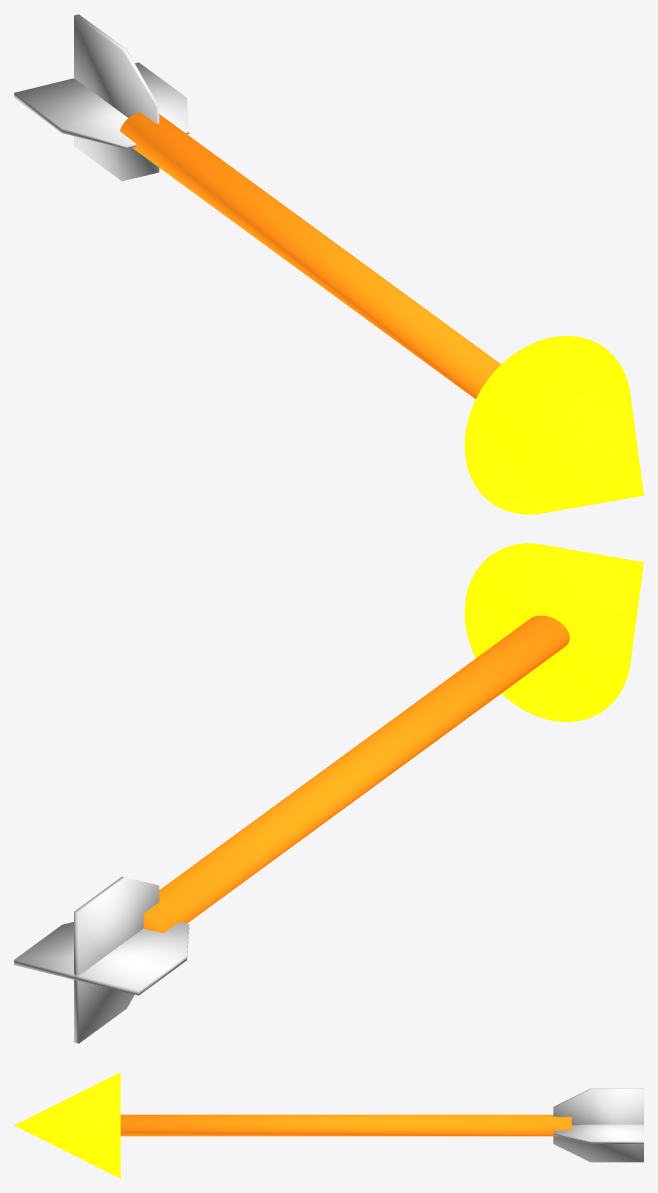
File: homingArrow.fbx
3 renders of one model, top to bottom at view 1: azimuth 30°, elevation 25°; view 2: azimuth 150°, elevation 25°; view 3: azimuth 270°, elevation 25°, orthographic. The views are drawn at different scales.
Parts seen in each view (by area): view 1: arrowHoming; view 2: arrowHoming; view 3: arrowHoming.
Boxes of the visible parts, bbox=[...] form: arrowHoming: bbox=[14, 14, 643, 514]; arrowHoming: bbox=[14, 543, 643, 1043]; arrowHoming: bbox=[14, 1072, 643, 1178].
Size of the model in its own units: 30 by 30 by 177.
